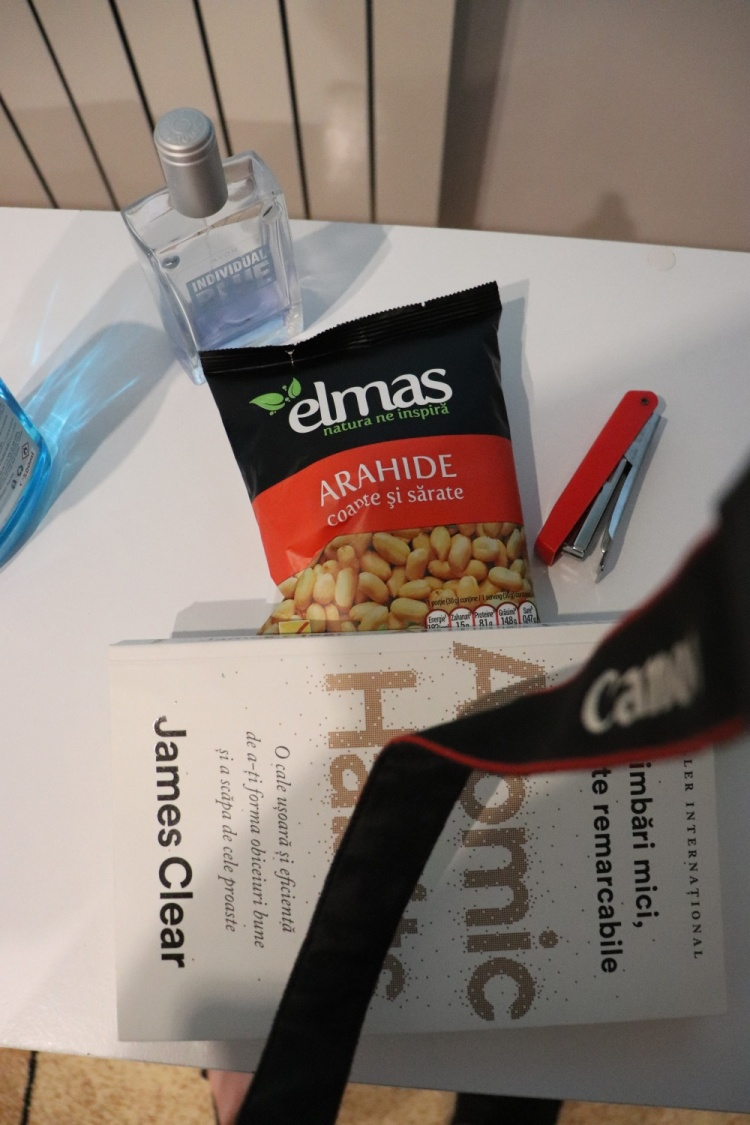peanuts: (202, 283, 544, 636)
